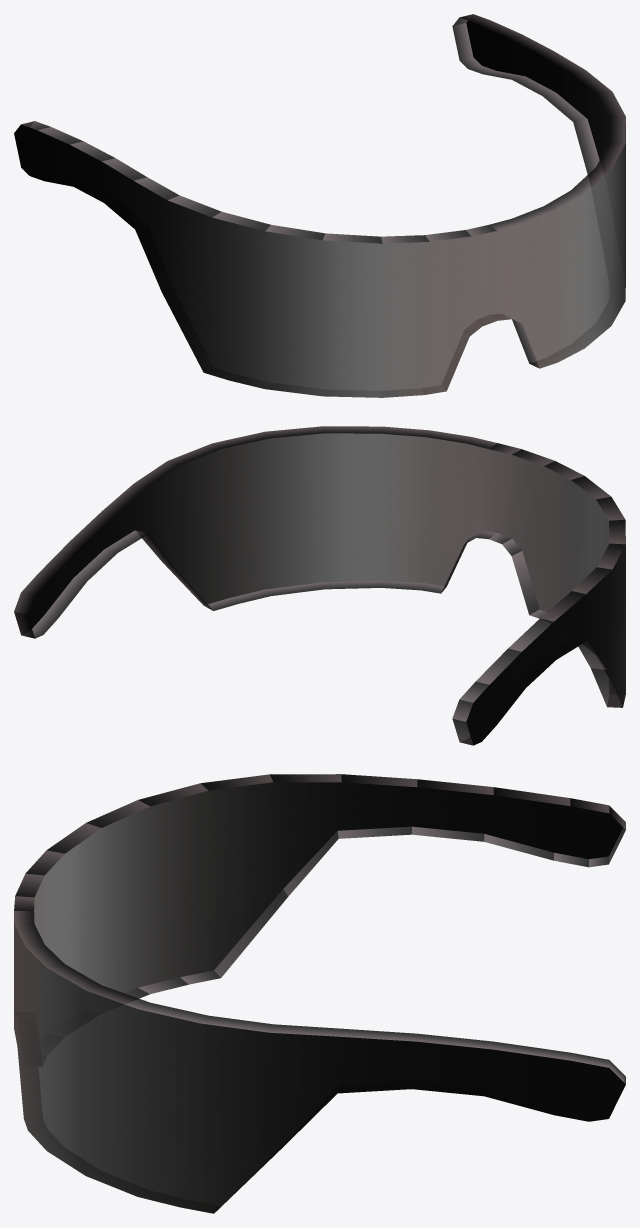
The picture shows the model from 3 angles, top to bottom: view 1: azimuth 30°, elevation 25°; view 2: azimuth 150°, elevation 25°; view 3: azimuth 270°, elevation 25°; orthographic projection. The views are drawn at different scales.
Visible parts, largest first — view 1: Wolf3D_Glasses; view 2: Wolf3D_Glasses; view 3: Wolf3D_Glasses.
Part boxes in pixels (x1=…): Wolf3D_Glasses: x1=14, y1=14, x2=625, y2=397; Wolf3D_Glasses: x1=14, y1=426, x2=625, y2=745; Wolf3D_Glasses: x1=14, y1=774, x2=625, y2=1213.
Size of the model in its own units: 0.1663 by 0.0559 by 0.1637.
1 material, 1 textured.
